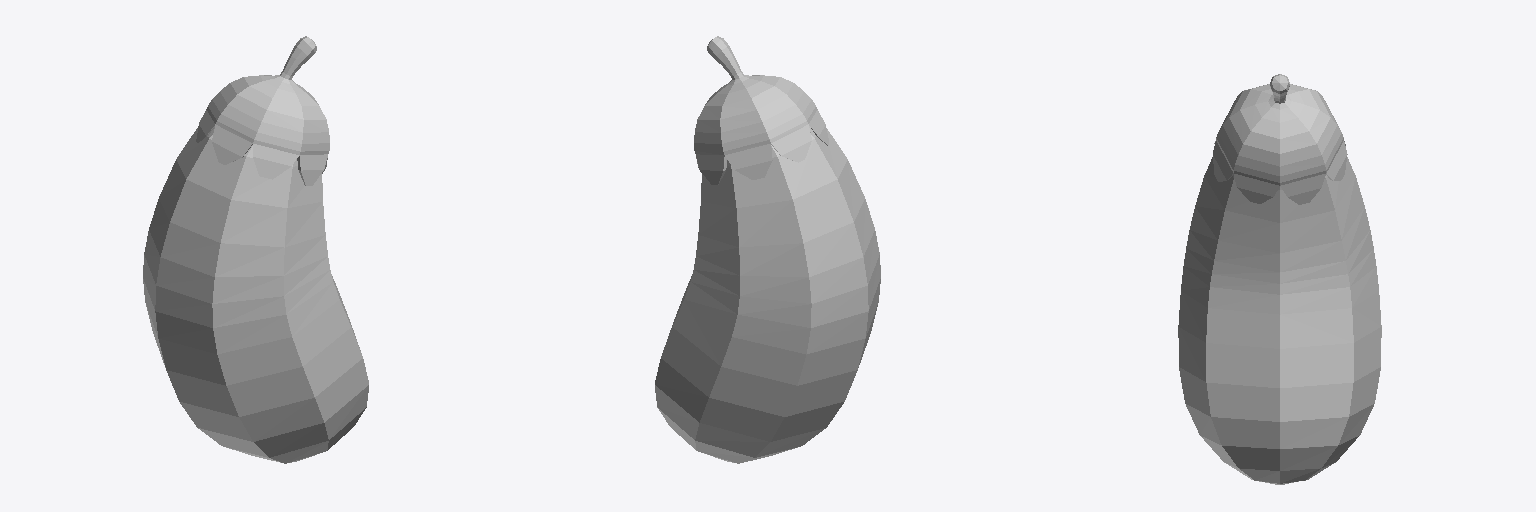
The model's file is eggplant.obj.
The picture shows the model from 3 angles: view 1: azimuth 30°, elevation 25°; view 2: azimuth 150°, elevation 25°; view 3: azimuth 270°, elevation 25°; orthographic projection.
Visible parts, largest first — view 1: eggplant_finals_Cube.005; view 2: eggplant_finals_Cube.005; view 3: eggplant_finals_Cube.005.
Part boxes in pixels (x1,y1,x2,y2): eggplant_finals_Cube.005: (143, 36, 368, 463); eggplant_finals_Cube.005: (655, 36, 880, 463); eggplant_finals_Cube.005: (1178, 74, 1381, 484).
Bounding box in the file's own units: 0.2632 × 0.5153 × 0.23.